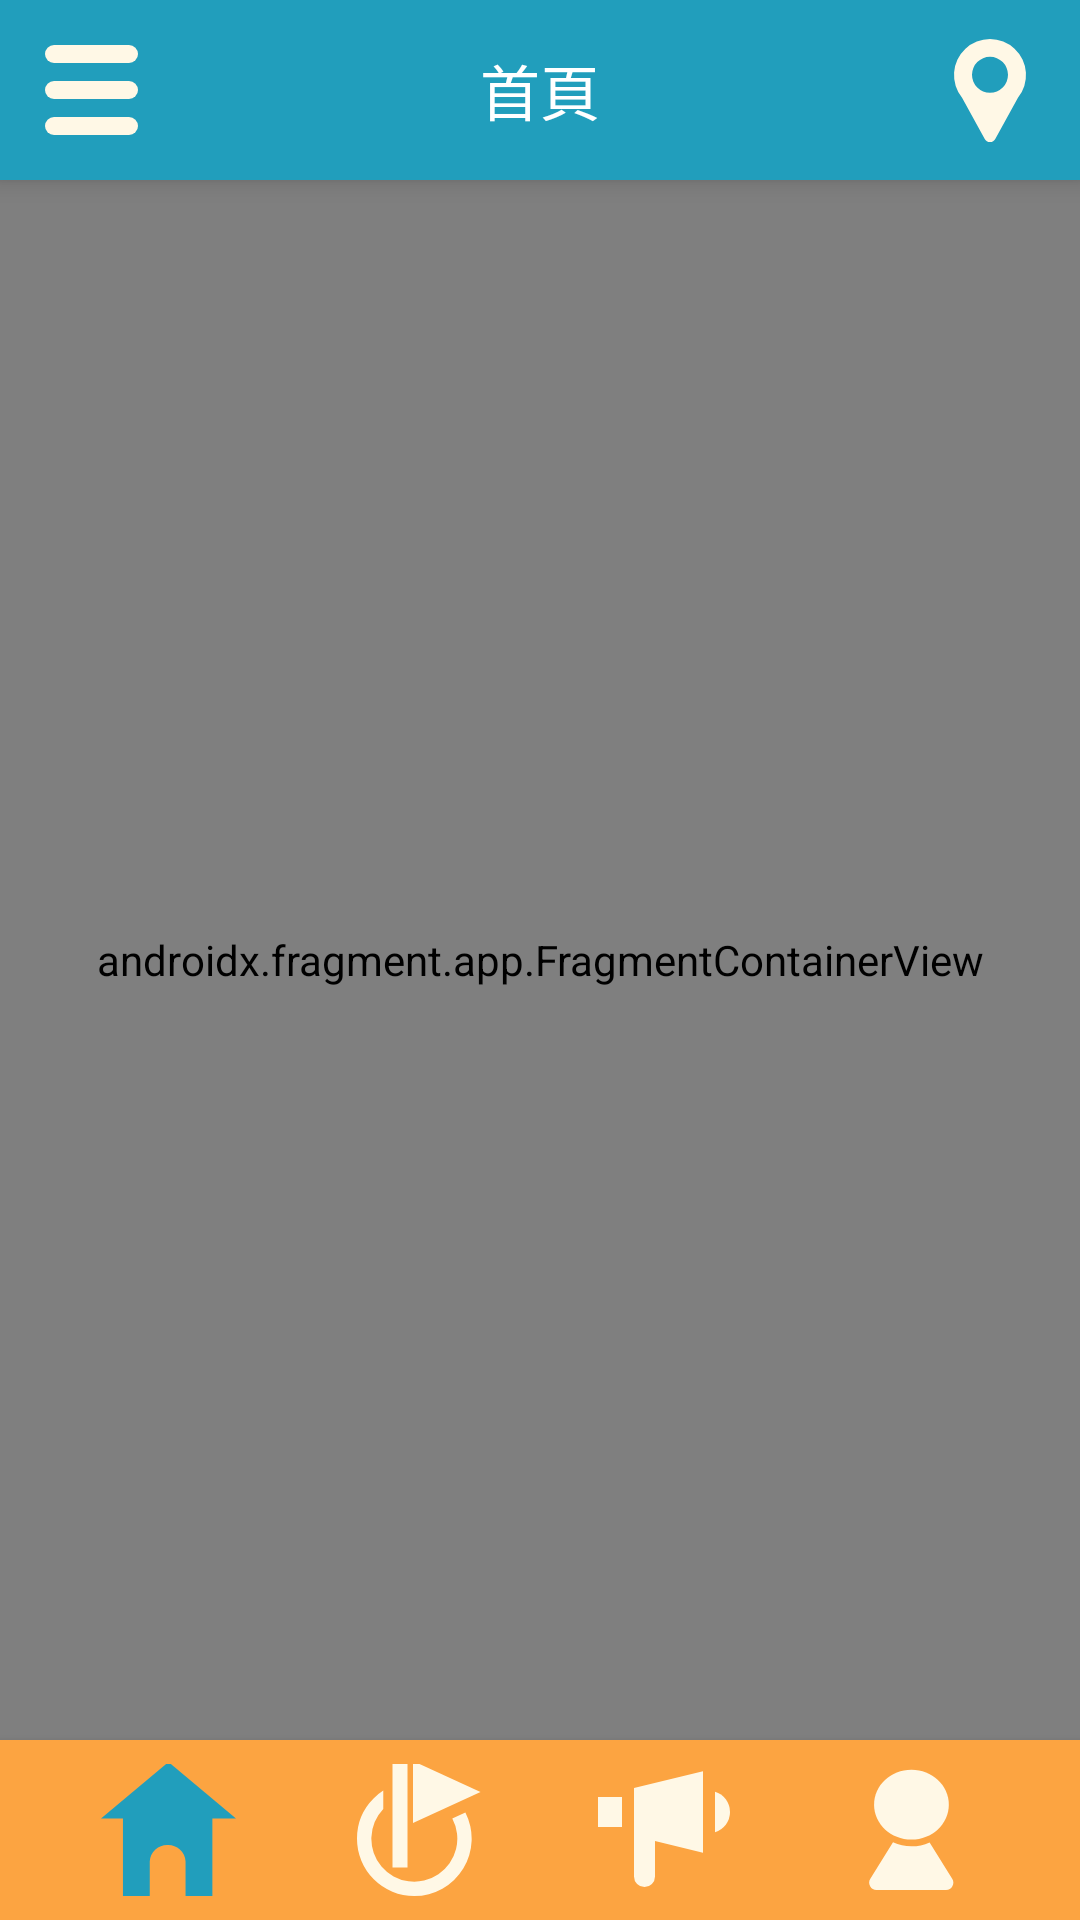

Screen size 1080×1920. Icon name, then its center in pixels as (x,y):
list: (91,90)
